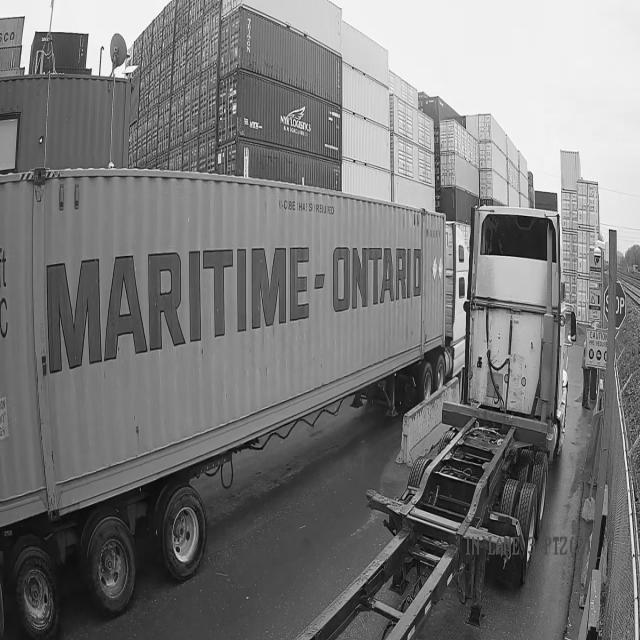container_company_logo: (39, 238, 426, 383)
truck_with_container: (0, 169, 468, 639)
truck_without_container: (296, 205, 577, 639)
